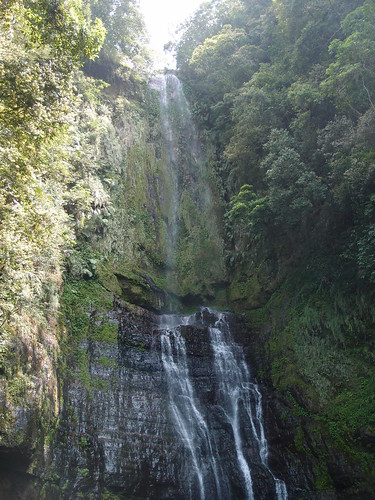wufengciWaterfall: (74, 53, 306, 496)
